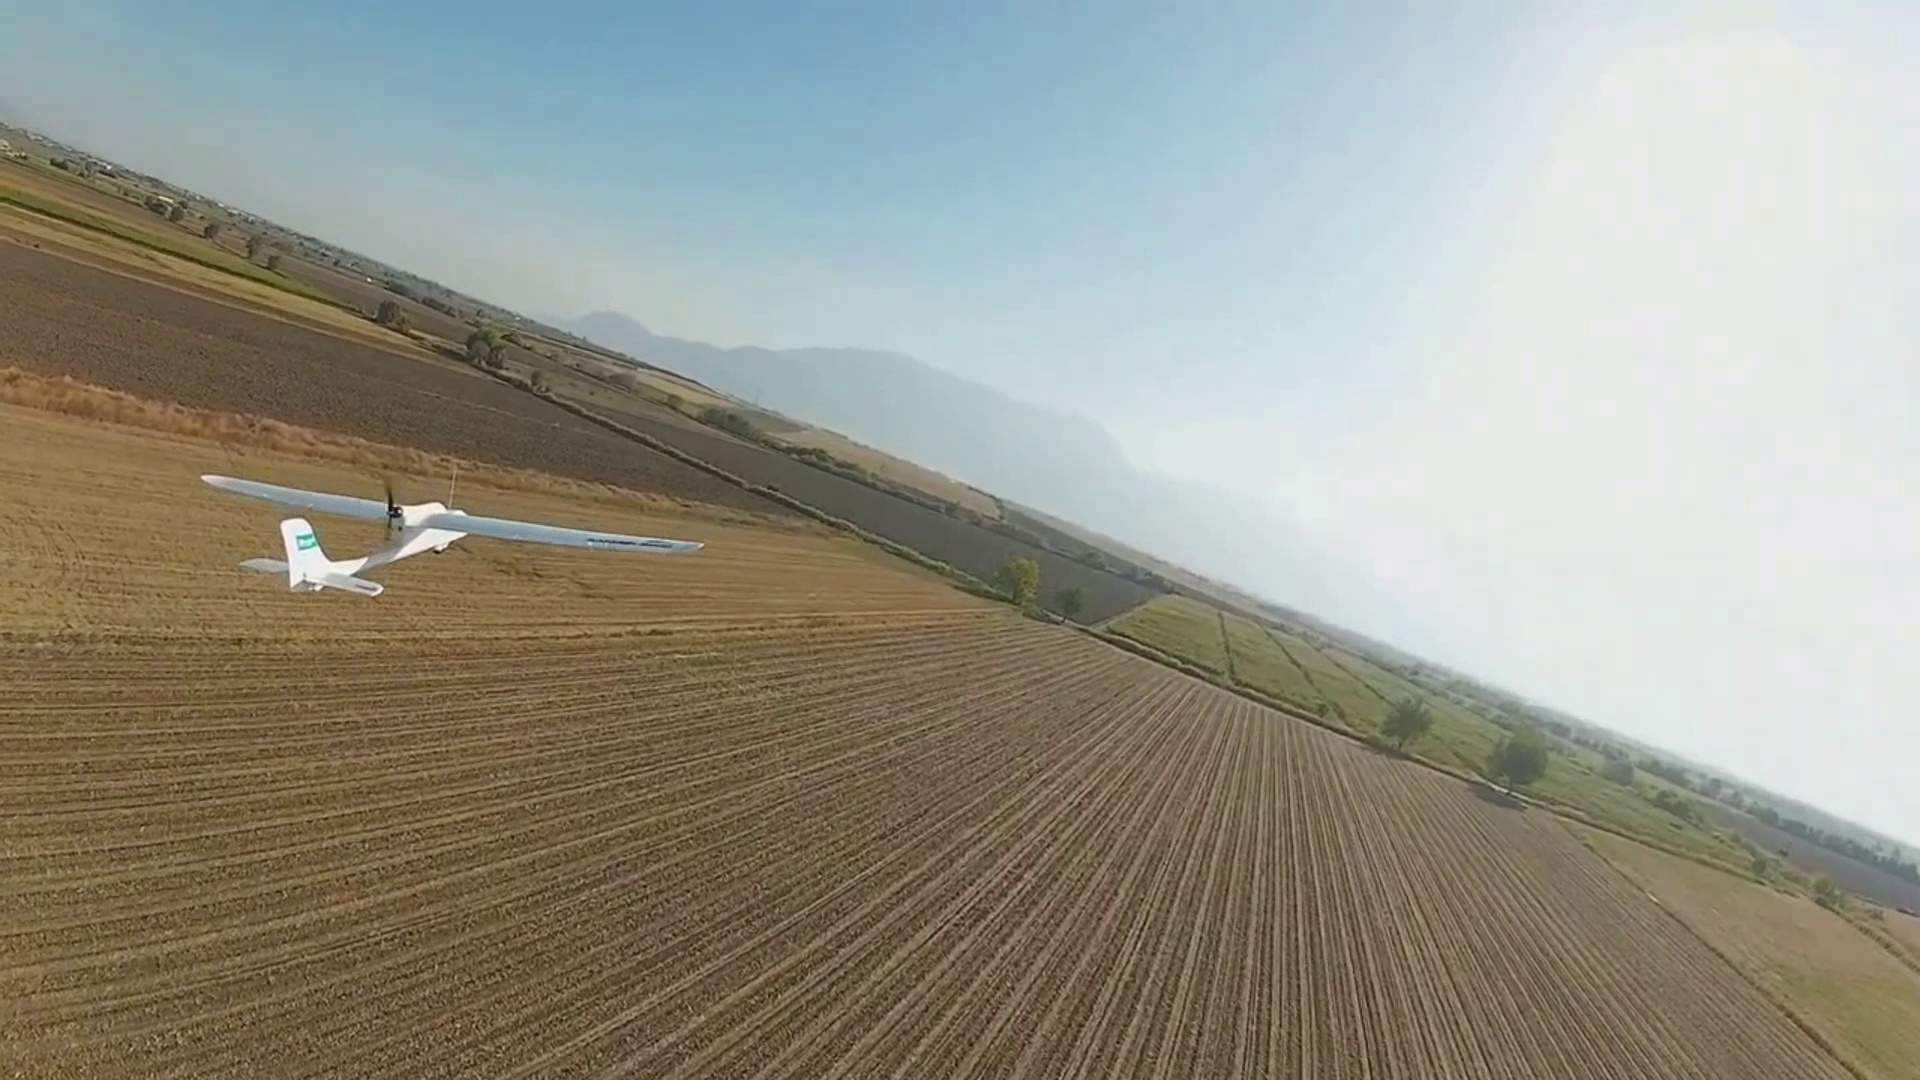airplane: (199, 468, 703, 601)
